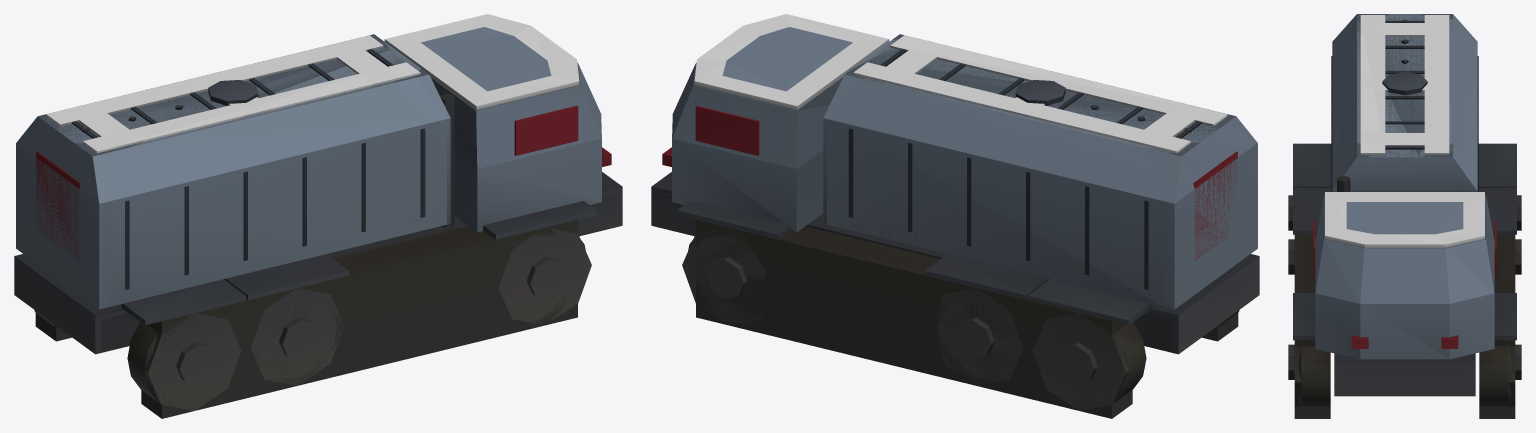
Rendered from veyran_transport_truck.glb.
The picture shows the model from 3 angles, left to right: view 1: azimuth 30°, elevation 25°; view 2: azimuth 150°, elevation 25°; view 3: azimuth 270°, elevation 25°; orthographic projection. The views are drawn at different scales.
Visible parts, largest first — view 1: hull (×3); view 2: hull (×3); view 3: hull (×3).
Boxes of the visible parts, x1,y1,x2,y2 form: hull (×3): [14, 14, 622, 418]; hull (×3): [651, 14, 1259, 418]; hull (×3): [1288, 14, 1521, 418].
Size of the model in its own units: 5.64 by 2.56 by 2.48.
